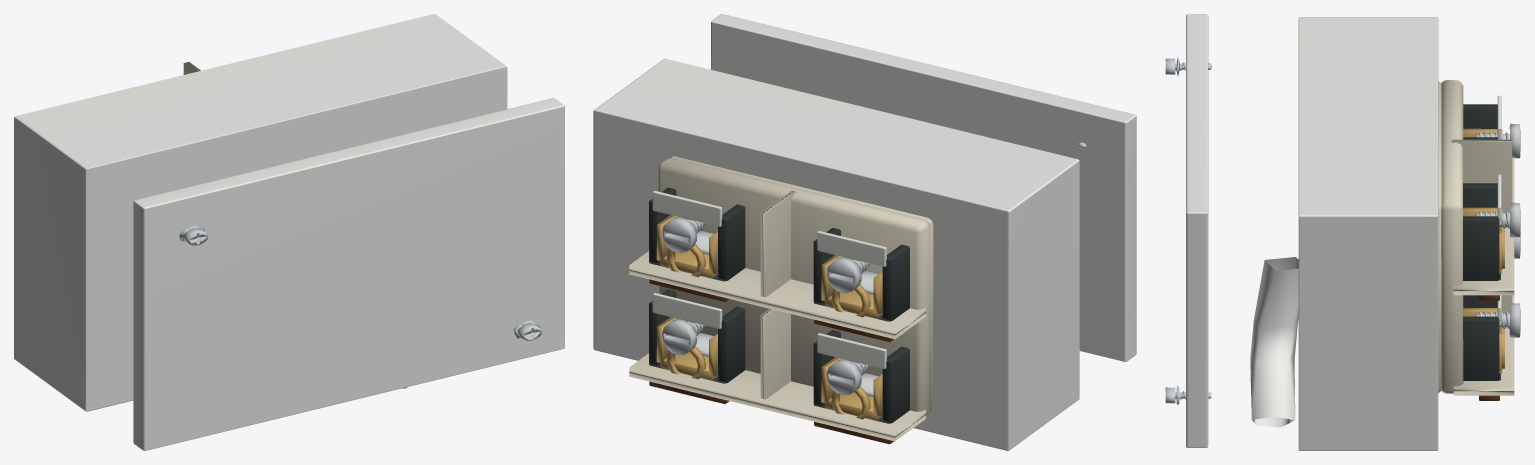
File: junction_default.low.glb
3 views of the same model, side by side, from view 1: azimuth 30°, elevation 25°; view 2: azimuth 150°, elevation 25°; view 3: azimuth 270°, elevation 25° (orthographic). The views are drawn at different scales.
Parts seen in each view (by area): view 1: part:cover, part:body, detail:cover-fixing · Detail zinc plated fixing; view 2: part:body, part:terminals · Original 5a609f27, part:cover, detail:terminal-clamp:3 · Detail moulded engineering polymer, detail:terminal-clamp:1 · Detail moulded engineering polymer, detail:terminal-clamp:2 · Detail moulded engineering polymer, detail:terminal-clamp:4 · Detail moulded engineering polymer, detail:terminal-clamp:3 · Detail machined brass, detail:terminal-clamp:1 · Detail machined brass, detail:terminal-clamp:2 · Detail machined brass, detail:terminal-clamp:4 · Detail machined brass, Moulded terminal legend pad.001 (+7 smaller); view 3: part:body, part:terminals · Original 5a609f27, part:cover, part:body.001, detail:terminal-clamp:2 · Detail moulded engineering polymer, detail:terminal-clamp:4 · Detail moulded engineering polymer, detail:terminal-clamp:1 · Detail moulded engineering polymer, detail:terminal-clamp:2 · Detail zinc plated fixing, detail:terminal-clamp:4 · Detail zinc plated fixing, detail:cover-fixing · Detail zinc plated fixing, detail:terminal-clamp:1 · Detail zinc plated fixing, detail:terminal-clamp:2 · Detail machined brass (+1 smaller).
Boxes of the visible parts, x1,y1,x2,y2 form: part:cover: [133, 98, 564, 450]; part:body: [14, 14, 507, 411]; detail:cover-fixing · Detail zinc plated fixing: [183, 228, 542, 340]; part:body: [593, 58, 1079, 450]; part:terminals · Original 5a609f27: [629, 156, 933, 441]; part:cover: [711, 14, 1136, 361]; detail:terminal-clamp:3 · Detail moulded engineering polymer: [813, 330, 909, 423]; detail:terminal-clamp:1 · Detail moulded engineering polymer: [813, 227, 909, 321]; detail:terminal-clamp:2 · Detail moulded engineering polymer: [649, 187, 745, 281]; detail:terminal-clamp:4 · Detail moulded engineering polymer: [649, 289, 745, 383]; detail:terminal-clamp:3 · Detail machined brass: [821, 357, 882, 420]; detail:terminal-clamp:1 · Detail machined brass: [821, 255, 882, 318]; detail:terminal-clamp:2 · Detail machined brass: [656, 215, 717, 278]; detail:terminal-clamp:4 · Detail machined brass: [656, 317, 717, 380]; Moulded terminal legend pad.001: [652, 191, 722, 226]; part:body: [1298, 17, 1438, 450]; part:terminals · Original 5a609f27: [1438, 80, 1514, 395]; part:cover: [1186, 14, 1208, 447]; part:body.001: [1250, 257, 1298, 427]; detail:terminal-clamp:2 · Detail moulded engineering polymer: [1463, 183, 1500, 280]; detail:terminal-clamp:4 · Detail moulded engineering polymer: [1463, 295, 1500, 380]; detail:terminal-clamp:1 · Detail moulded engineering polymer: [1463, 104, 1497, 139]; detail:terminal-clamp:2 · Detail zinc plated fixing: [1475, 202, 1520, 237]; detail:terminal-clamp:4 · Detail zinc plated fixing: [1475, 303, 1520, 337]; detail:cover-fixing · Detail zinc plated fixing: [1165, 58, 1211, 403]; detail:terminal-clamp:1 · Detail zinc plated fixing: [1475, 123, 1520, 158]; detail:terminal-clamp:2 · Detail machined brass: [1463, 207, 1504, 273].
Size of the model in its own units: 0.7 by 0.4485 by 0.5268.
